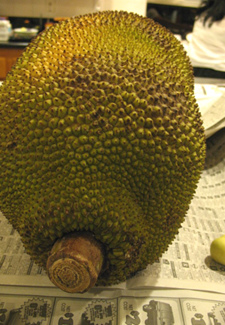jackfruit: (0, 9, 210, 294)
